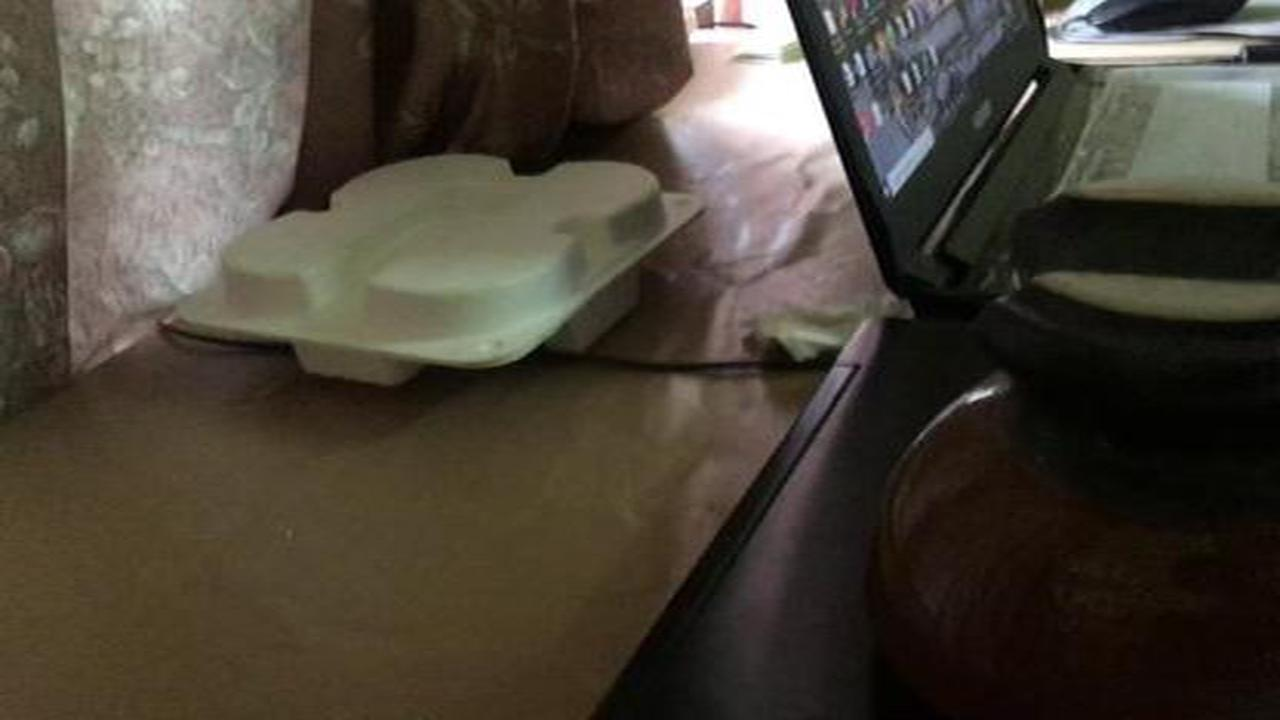insulator_pin: (856, 172, 1274, 720)
